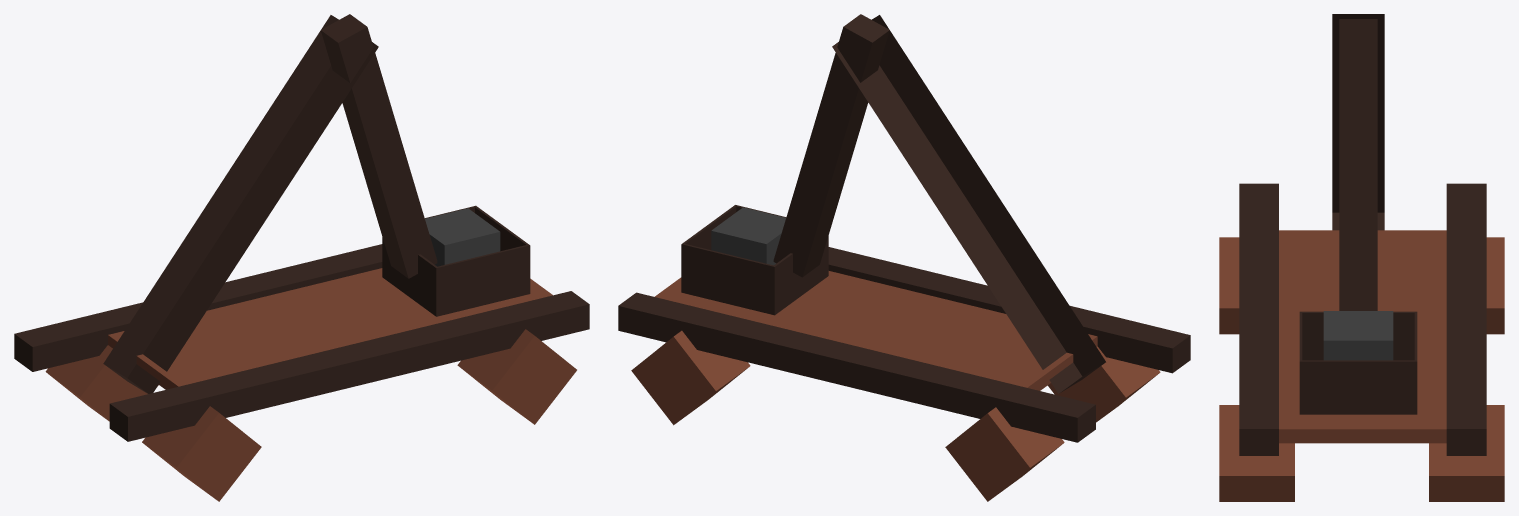
The model's file is Trebuchet.fbx.
3 renders of one model, left to right at view 1: azimuth 30°, elevation 25°; view 2: azimuth 150°, elevation 25°; view 3: azimuth 270°, elevation 25°, orthographic. The views are drawn at different scales.
Parts seen in each view (by area): view 1: Trebuchet; view 2: Trebuchet; view 3: Trebuchet.
Part boxes in pixels (x1=…): Trebuchet: x1=14, y1=14, x2=589, y2=501; Trebuchet: x1=618, y1=14, x2=1190, y2=501; Trebuchet: x1=1219, y1=14, x2=1504, y2=501.
Bounding box in the file's own units: 383 × 306 × 188.
